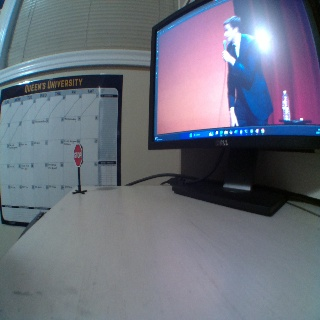sign_stop: (73, 145, 82, 165)
